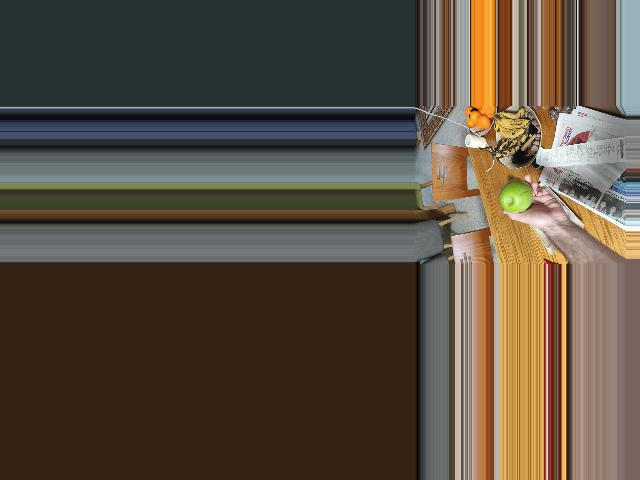apple: (497, 180, 533, 213)
